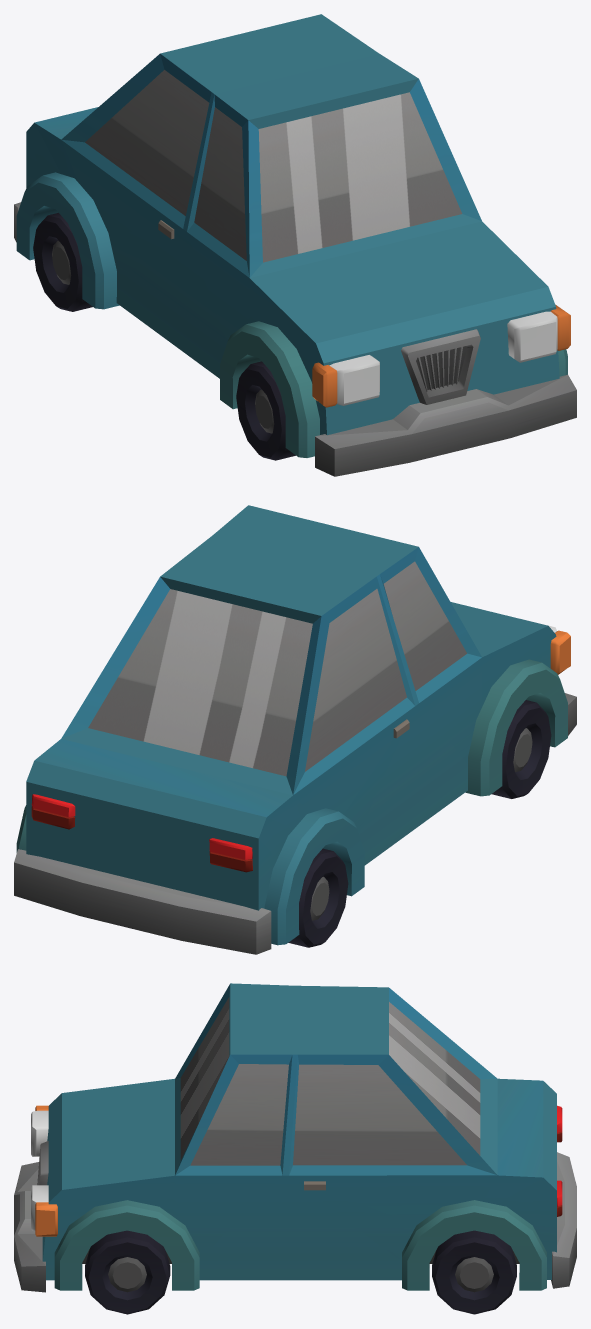
The model's file is Car_4_12.fbx.
3 renders of one model, top to bottom at view 1: azimuth 30°, elevation 25°; view 2: azimuth 150°, elevation 25°; view 3: azimuth 270°, elevation 25°, orthographic. The views are drawn at different scales.
Parts seen in each view (by area): view 1: Car_4_12, BWhel_FR, BWhel_BR; view 2: Car_4_12, BWhel_BR, BWhel_FR; view 3: Car_4_12, BWhel_FL, BWhel_BL.
Boxes of the visible parts, <box> form: Car_4_12: <box>14,14,576,476</box>; BWhel_FR: <box>236,361,295,460</box>; BWhel_BR: <box>33,212,92,311</box>; Car_4_12: <box>14,505,576,954</box>; BWhel_BR: <box>288,848,348,947</box>; BWhel_FR: <box>491,700,551,798</box>; Car_4_12: <box>14,983,576,1292</box>; BWhel_FL: <box>85,1230,170,1314</box>; BWhel_BL: <box>432,1230,516,1314</box>.
Bounding box in the file's own units: 109 × 109 × 230.
